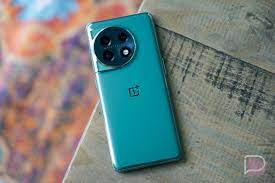phone: (86, 11, 182, 167)
